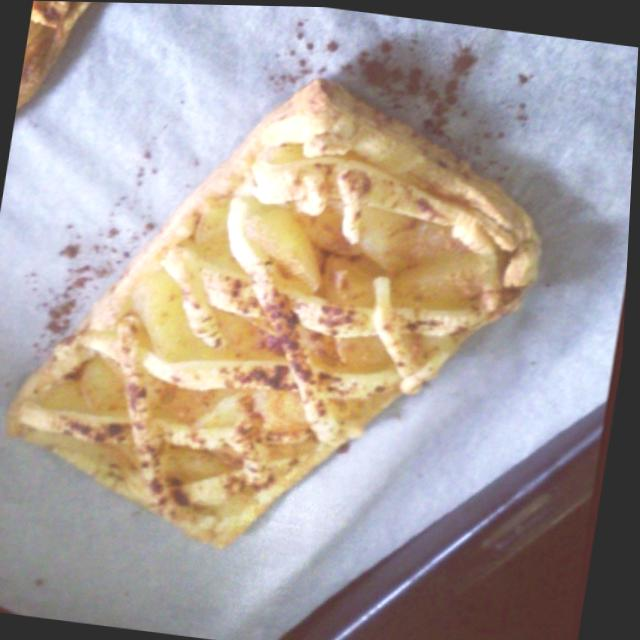炸货点心: (0, 22, 586, 606)
蛋糕甜品: (0, 22, 586, 606)
